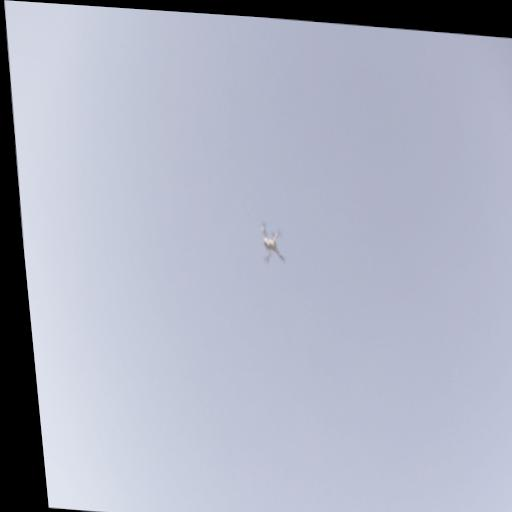drones: (257, 220, 289, 272)
